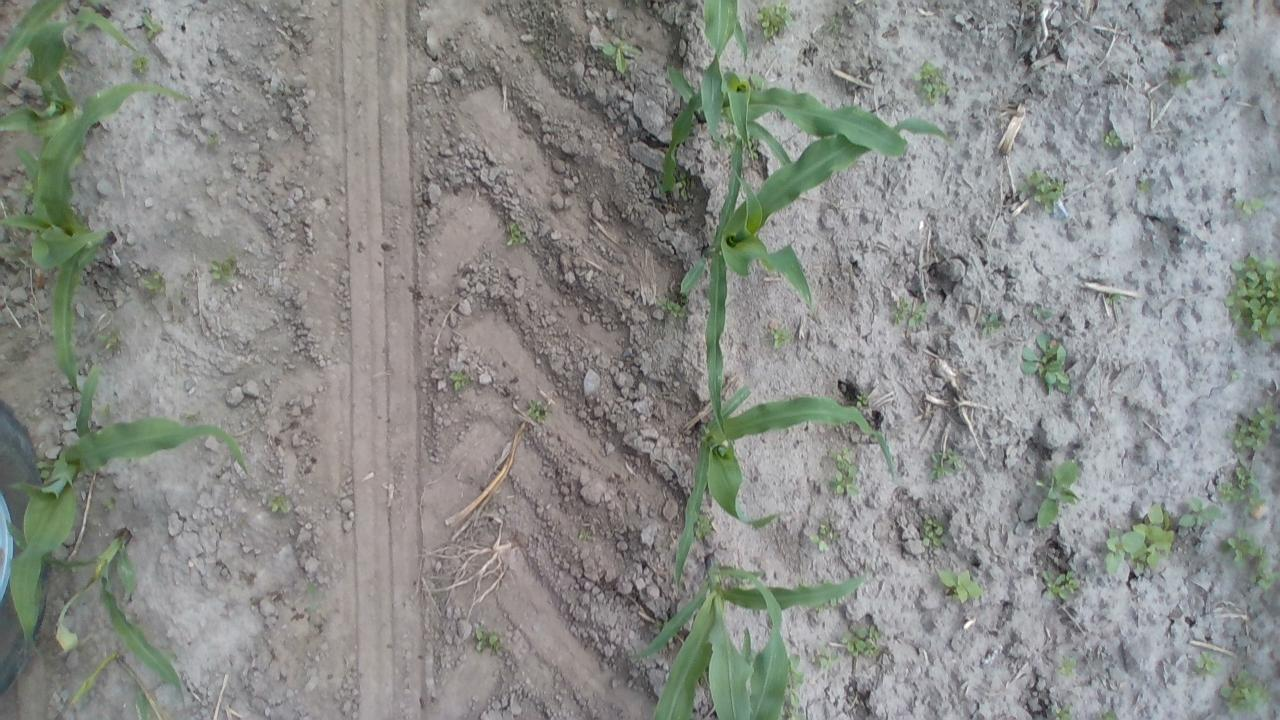Maize: (682, 116, 952, 440), (8, 365, 248, 650), (0, 82, 190, 393), (672, 387, 901, 591), (632, 555, 872, 720), (656, 66, 908, 195), (3, 517, 185, 688), (0, 8, 137, 182), (713, 565, 789, 720), (0, 0, 112, 85), (697, 0, 748, 146)
Weeds: (1224, 251, 1280, 344), (1104, 503, 1176, 574), (1032, 458, 1083, 530), (1020, 334, 1070, 393), (1217, 459, 1265, 516), (1228, 402, 1280, 452), (1218, 668, 1272, 712), (1016, 168, 1064, 212), (936, 568, 985, 605), (1219, 528, 1261, 566), (826, 447, 858, 496), (916, 60, 949, 107), (601, 38, 644, 72), (756, 1, 792, 38), (1178, 498, 1224, 526), (842, 624, 882, 656), (1042, 568, 1080, 601), (1249, 552, 1280, 589), (889, 296, 927, 326), (929, 447, 963, 479), (809, 516, 838, 550), (655, 292, 688, 318), (1192, 650, 1222, 678), (779, 690, 805, 720), (784, 654, 805, 690), (921, 519, 946, 547), (142, 269, 168, 295), (1170, 67, 1196, 91), (812, 644, 838, 668), (132, 691, 153, 720), (1234, 196, 1263, 216), (980, 314, 1004, 338), (673, 166, 689, 202), (475, 628, 501, 650), (210, 260, 236, 282), (142, 12, 162, 38), (693, 512, 713, 538), (505, 222, 526, 246), (526, 402, 550, 422), (97, 327, 119, 348), (1100, 129, 1122, 149), (0, 241, 24, 259), (1057, 655, 1077, 676), (770, 328, 790, 348), (268, 494, 288, 514), (448, 371, 469, 390), (61, 47, 78, 70), (710, 133, 735, 147), (131, 54, 149, 73), (36, 460, 54, 479), (1052, 703, 1072, 720), (748, 72, 766, 90), (744, 140, 760, 160), (1030, 307, 1052, 320), (21, 178, 34, 198), (101, 495, 117, 511), (97, 404, 114, 419), (1104, 292, 1122, 305), (856, 393, 870, 408), (1211, 66, 1228, 78), (580, 528, 594, 542), (654, 173, 664, 192), (826, 18, 840, 31), (205, 134, 218, 148), (795, 581, 812, 590), (699, 669, 708, 685), (1102, 710, 1116, 720), (1138, 181, 1150, 192), (224, 251, 237, 261), (815, 602, 826, 613), (305, 586, 317, 596), (652, 620, 664, 629), (828, 596, 838, 606), (1230, 373, 1238, 381), (822, 578, 832, 583)
